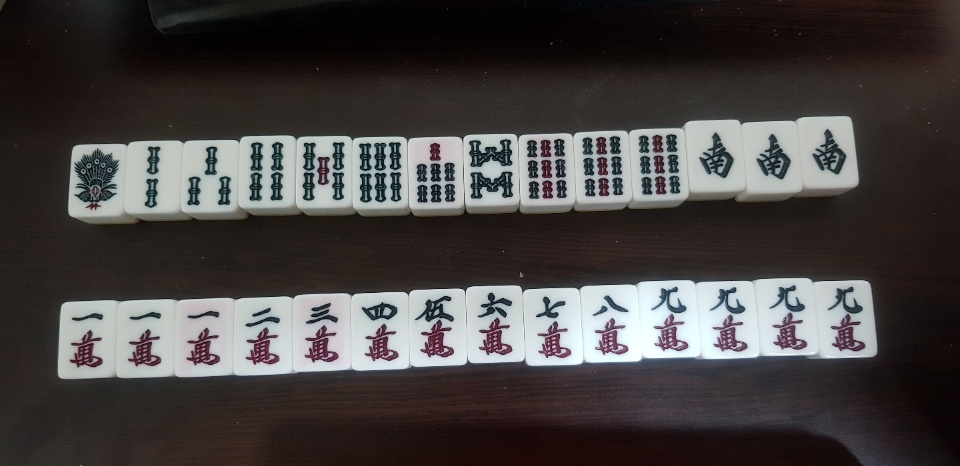honour_2: (682, 117, 745, 197), (749, 119, 804, 204), (806, 112, 859, 197)
man_1: (115, 297, 181, 379), (175, 301, 232, 381), (61, 297, 111, 379)
man_2: (240, 299, 290, 378)
man_3: (291, 295, 354, 378)
man_4: (352, 287, 413, 372)
man_5: (407, 288, 472, 370)
man_6: (468, 287, 524, 369)
man_7: (522, 285, 579, 365)
man_8: (581, 287, 645, 367)
man_9: (699, 283, 763, 369), (815, 279, 877, 360), (640, 281, 702, 360), (768, 274, 815, 358)
sou_1: (63, 140, 125, 228)
sou_2: (122, 142, 182, 222)
sou_3: (181, 138, 236, 224)
sou_4: (236, 137, 295, 219)
sou_5: (299, 135, 354, 217)
sou_6: (350, 137, 407, 215)
sou_7: (407, 135, 465, 219)
sou_8: (461, 135, 522, 215)
sou_9: (518, 135, 575, 215), (583, 129, 632, 220), (636, 128, 684, 213)
